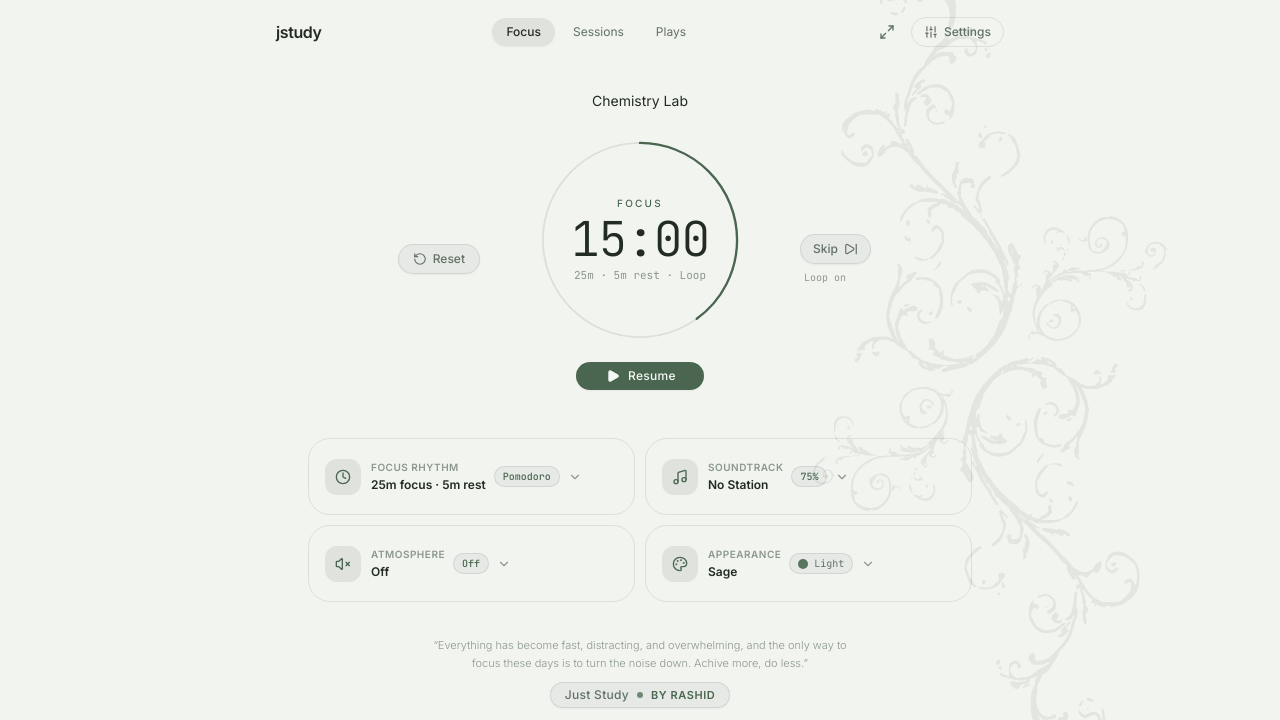
Scenario: Soundtrack Toggle & Sync with Timer › preserves timer and soundtrack state when switching tabs
This screenshot has width=1280, height=720.
Expected: the text "15:00" is shown, [571,215,709,263]
# Switch to Sessions tab
Step 1. Click the tab "Sessions" → [598, 32], box [559,18,638,46]
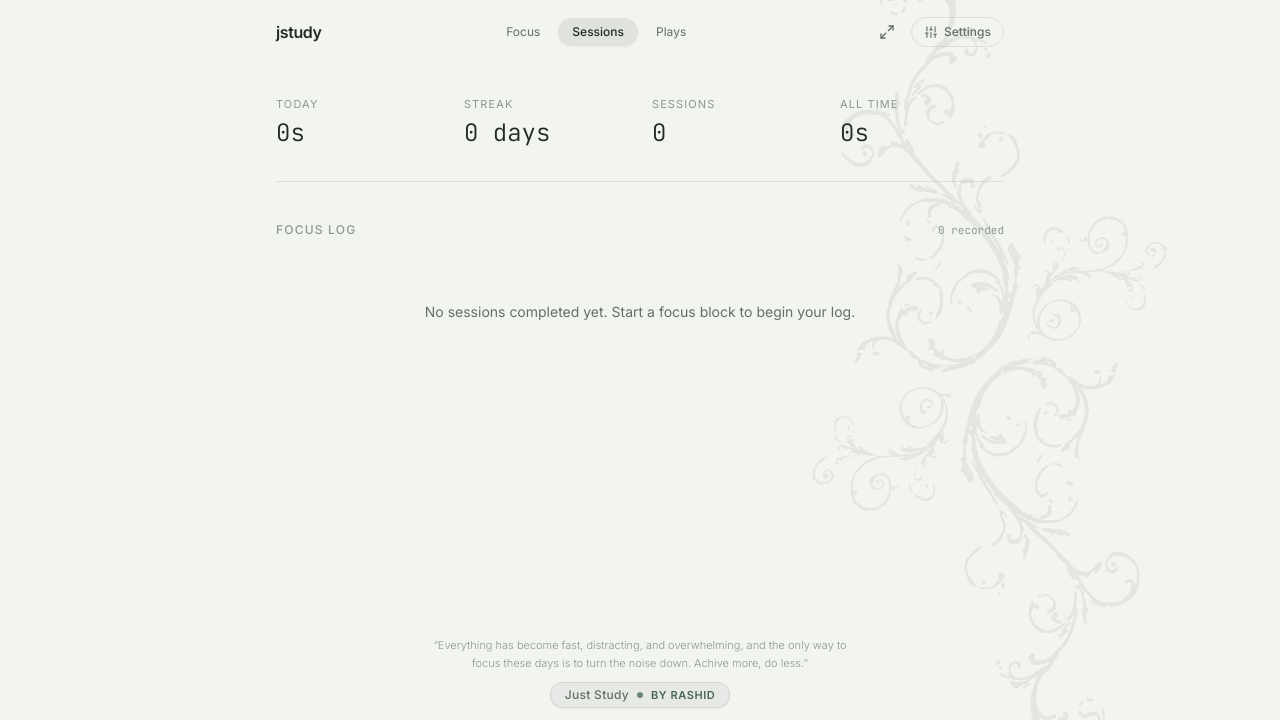
# Switch back to Focus timer tab
Step 2. Click the tab "Focus" → [523, 32], box [492,18,554,46]
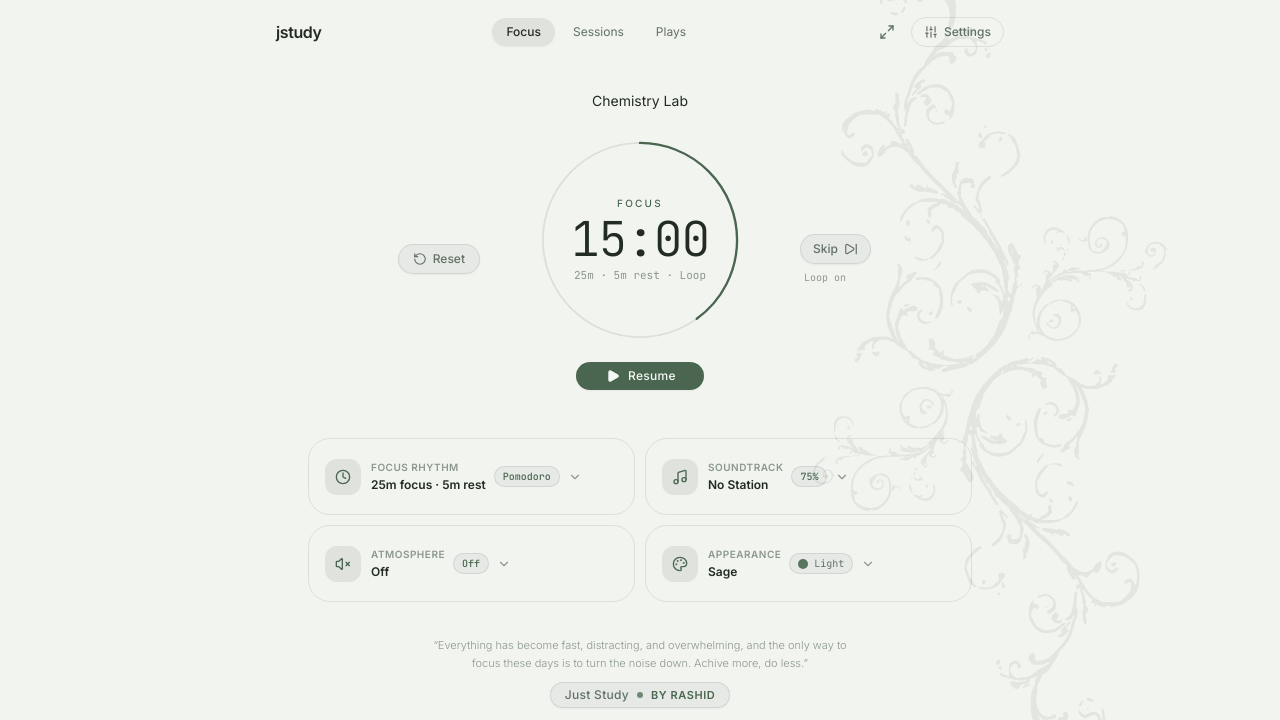
Expected: the text "15:00" is shown, [571,215,709,263]
